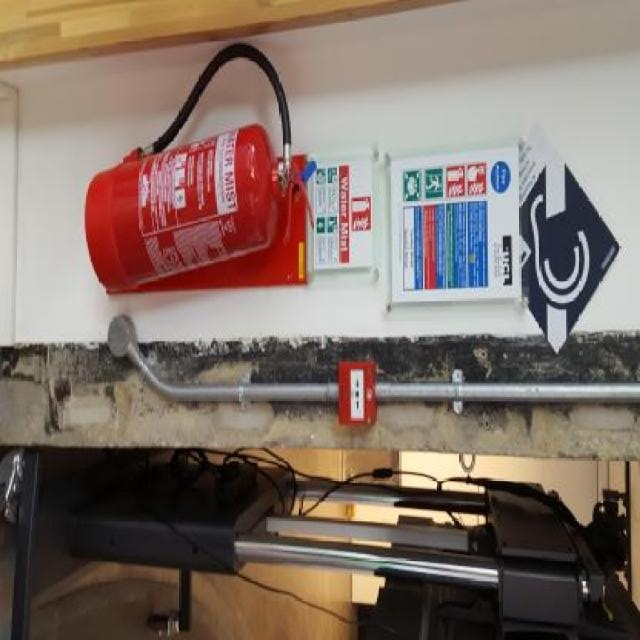fire extinguisher: (82, 44, 313, 291)
